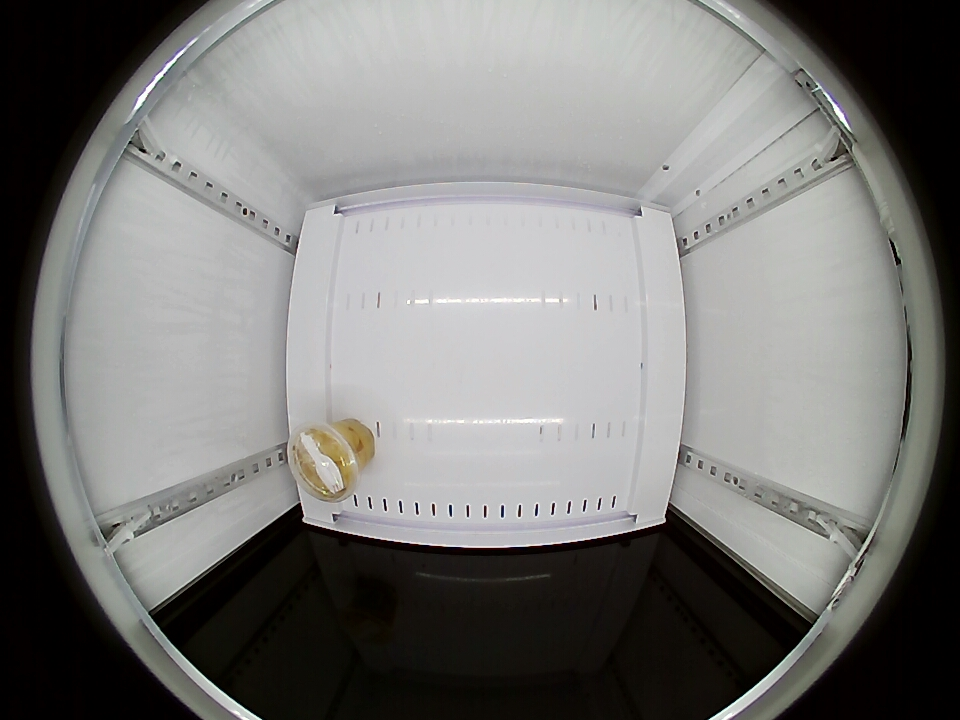xianguolao: (289, 423, 363, 502)
